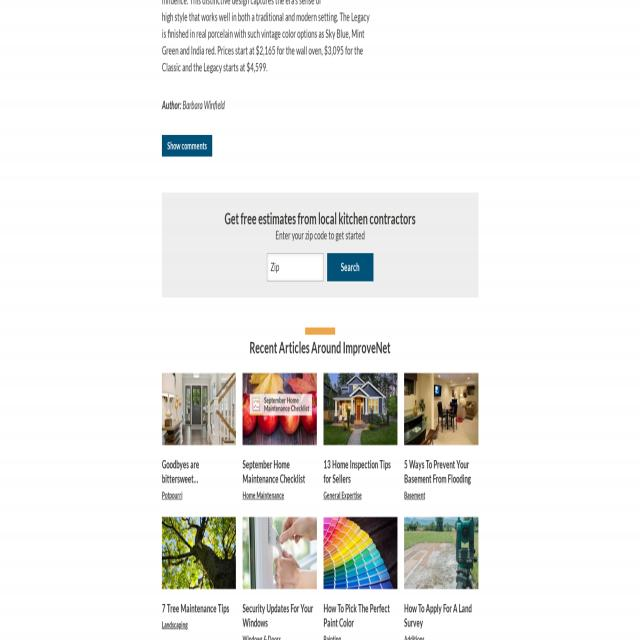button: (323, 373, 398, 445), (323, 516, 398, 588), (162, 373, 236, 445), (243, 373, 317, 445), (404, 373, 478, 445), (162, 516, 236, 588), (243, 516, 317, 588), (404, 516, 478, 588), (327, 254, 373, 282), (162, 135, 212, 157)
field: (266, 254, 324, 282)
